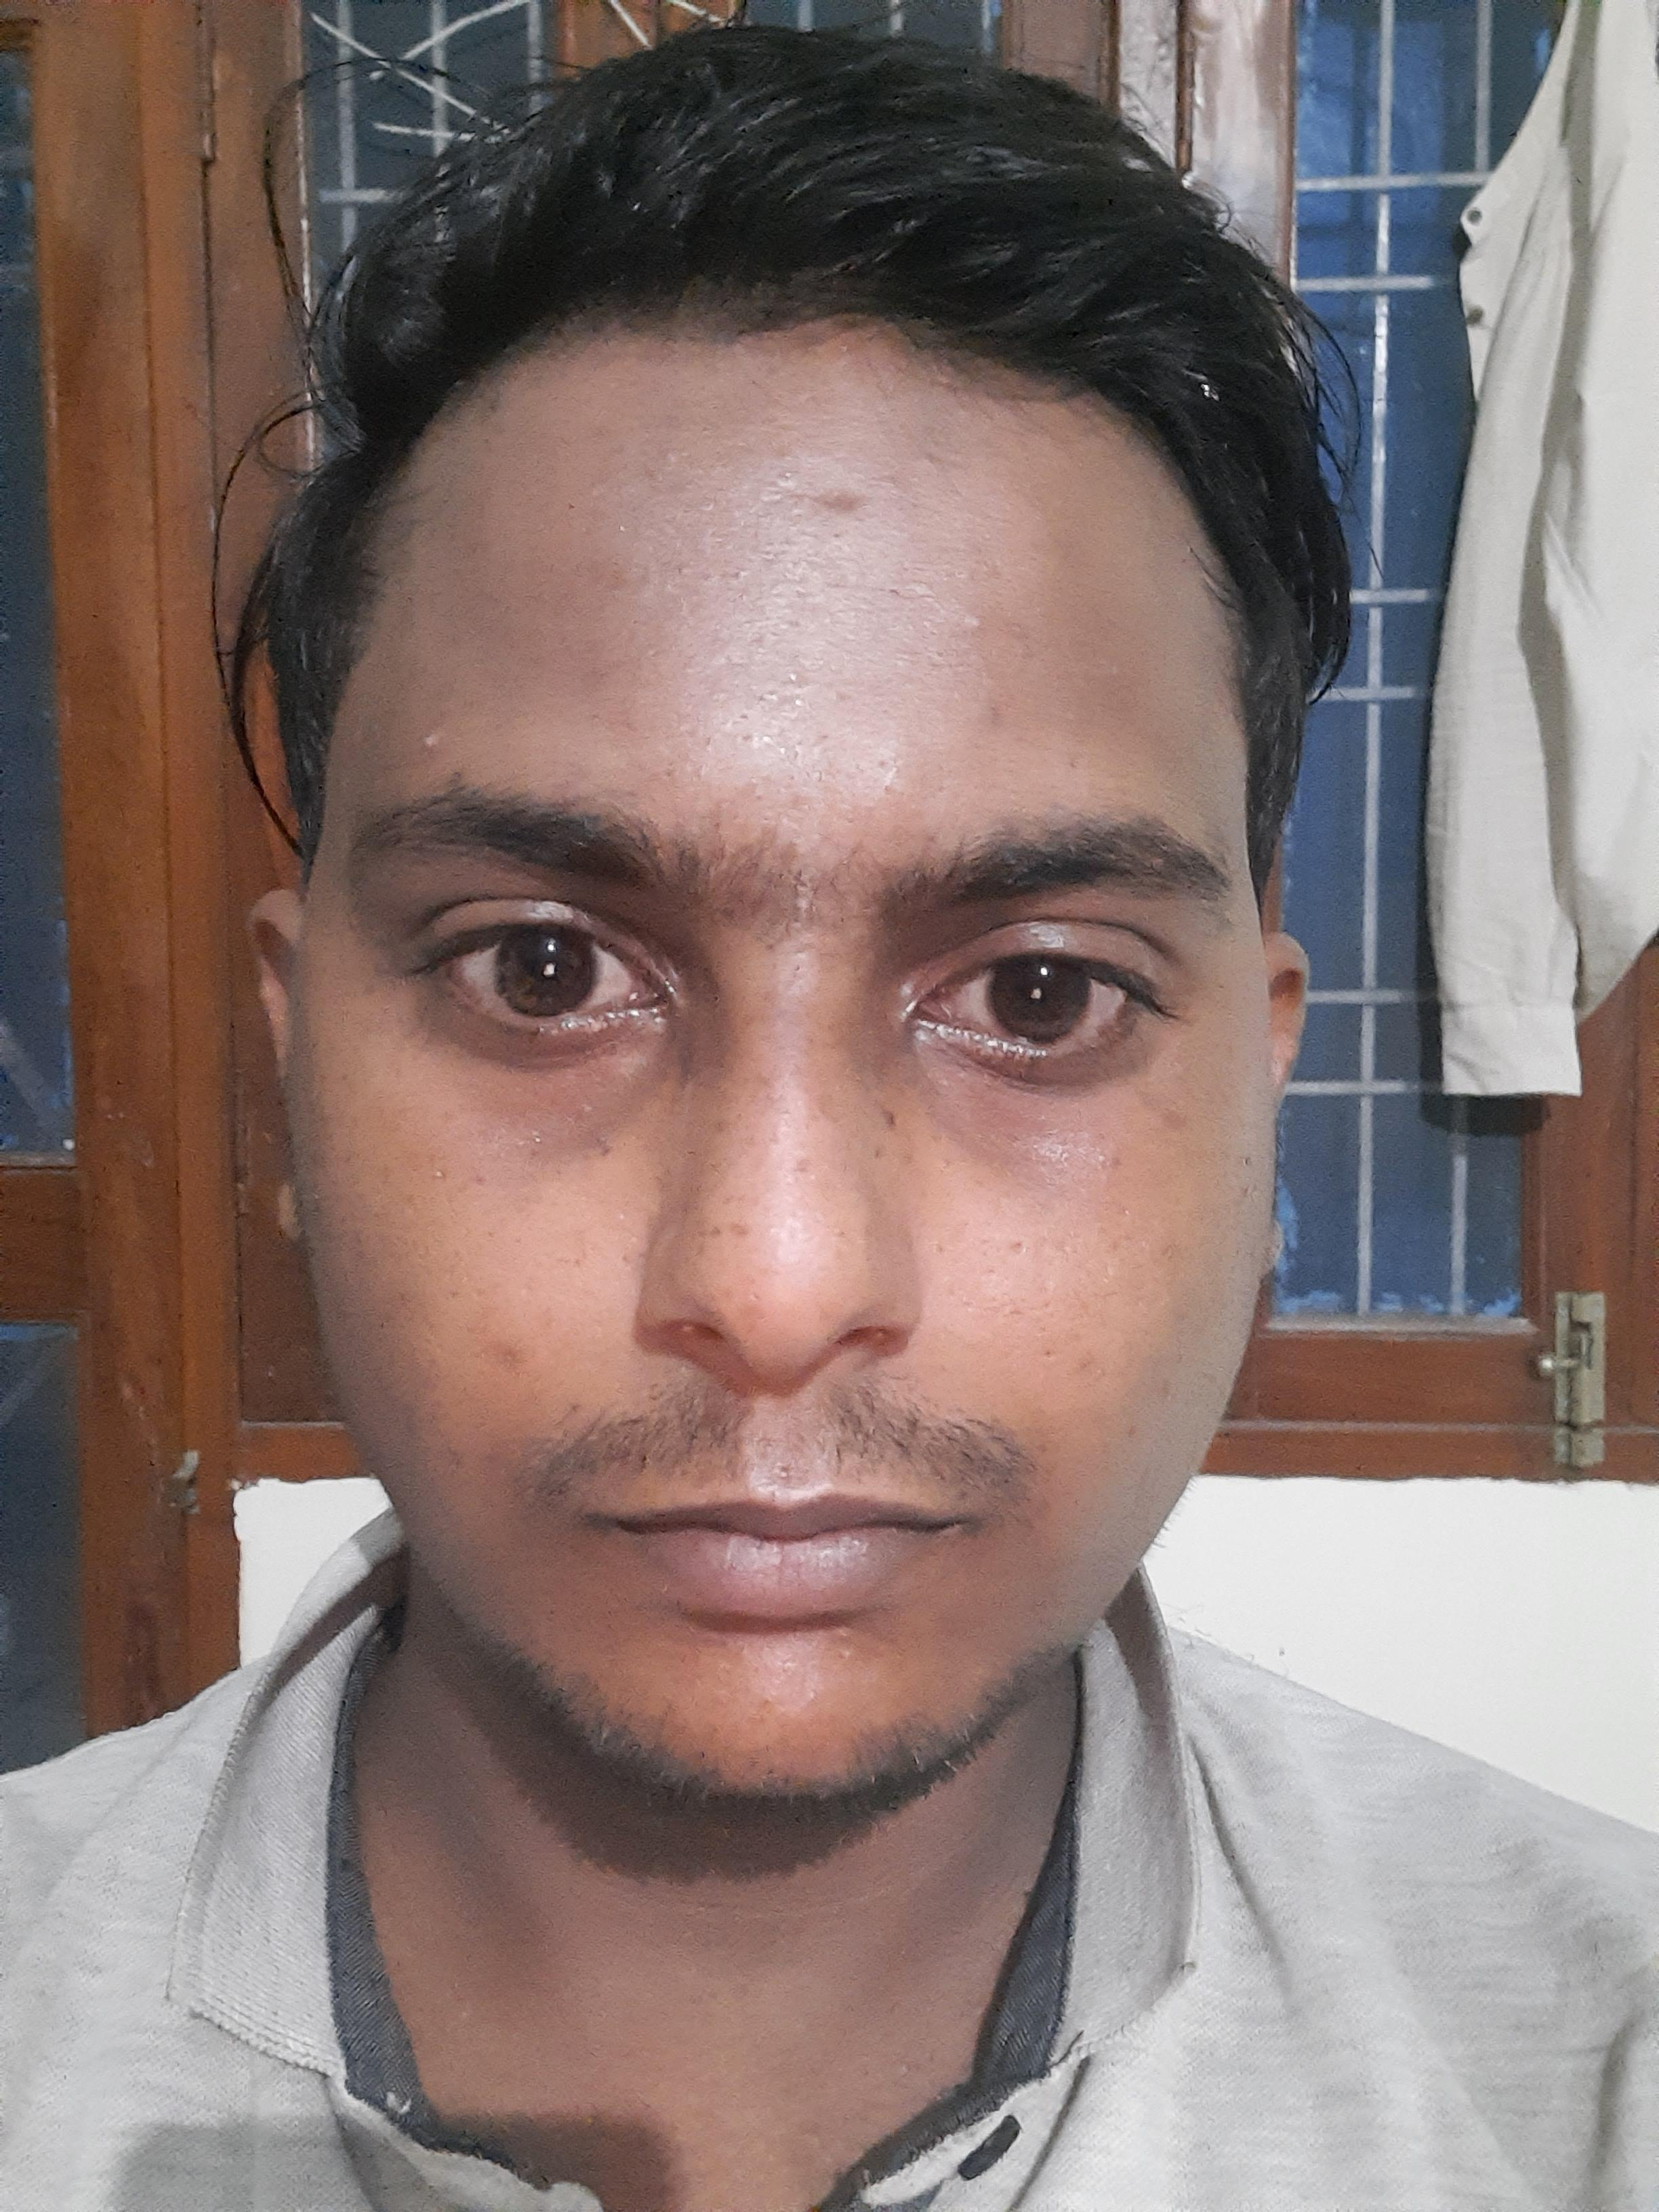Acne: (474, 1327, 533, 1383), (582, 467, 638, 509), (814, 479, 871, 519), (655, 448, 713, 486), (410, 721, 457, 763), (971, 690, 1007, 735), (775, 669, 817, 704), (957, 599, 995, 631)
Englarged-Pores: (945, 1254, 1127, 1386), (699, 1204, 770, 1264), (708, 705, 775, 754)
